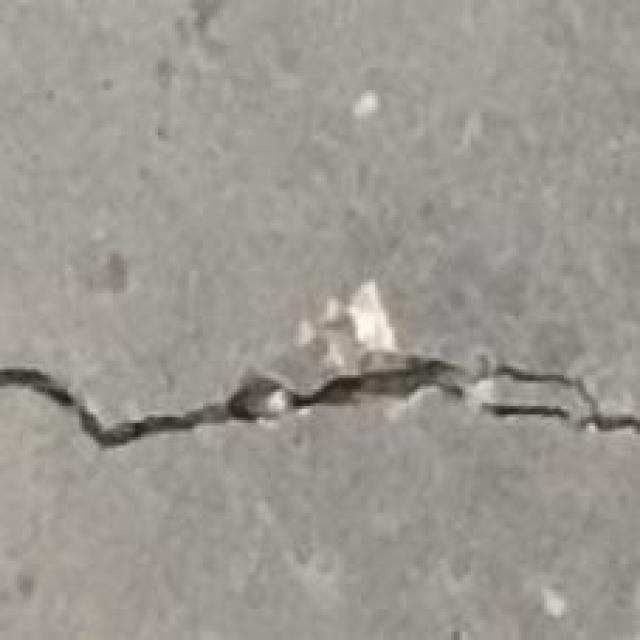Crack: (0, 330, 637, 490)
